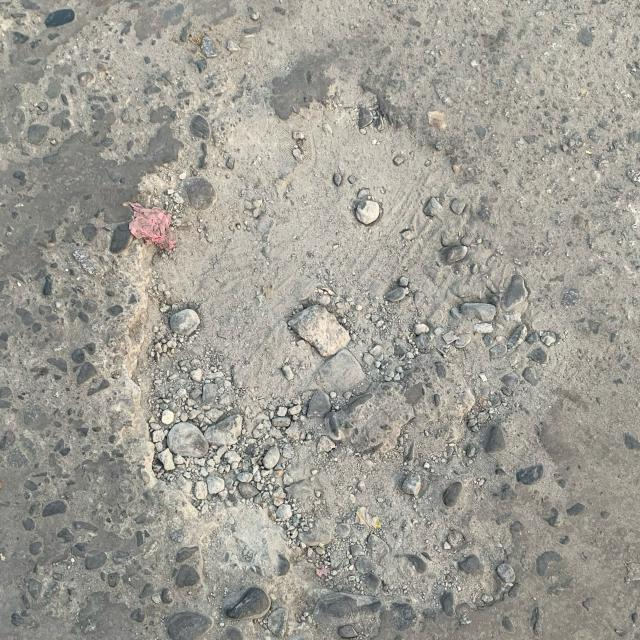unexpected: (5, 3, 640, 640)
